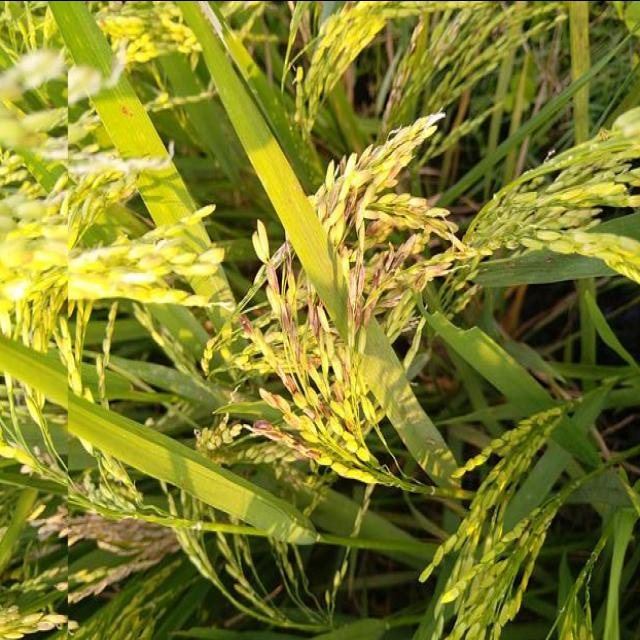Panicle Blight: (69, 515, 179, 593), (348, 233, 418, 336), (356, 114, 432, 195), (383, 21, 423, 130), (253, 419, 332, 466), (365, 207, 459, 246), (194, 412, 244, 450), (259, 387, 305, 428), (410, 254, 456, 293), (437, 7, 472, 51), (331, 347, 353, 415), (344, 183, 368, 236), (273, 238, 300, 280), (317, 180, 343, 221), (290, 342, 322, 375), (304, 298, 326, 339), (262, 255, 283, 295), (336, 233, 359, 264), (281, 299, 298, 338), (589, 128, 617, 151), (281, 375, 301, 396), (304, 407, 323, 426), (240, 315, 255, 339), (317, 396, 332, 419), (335, 154, 349, 174), (345, 416, 355, 431)
